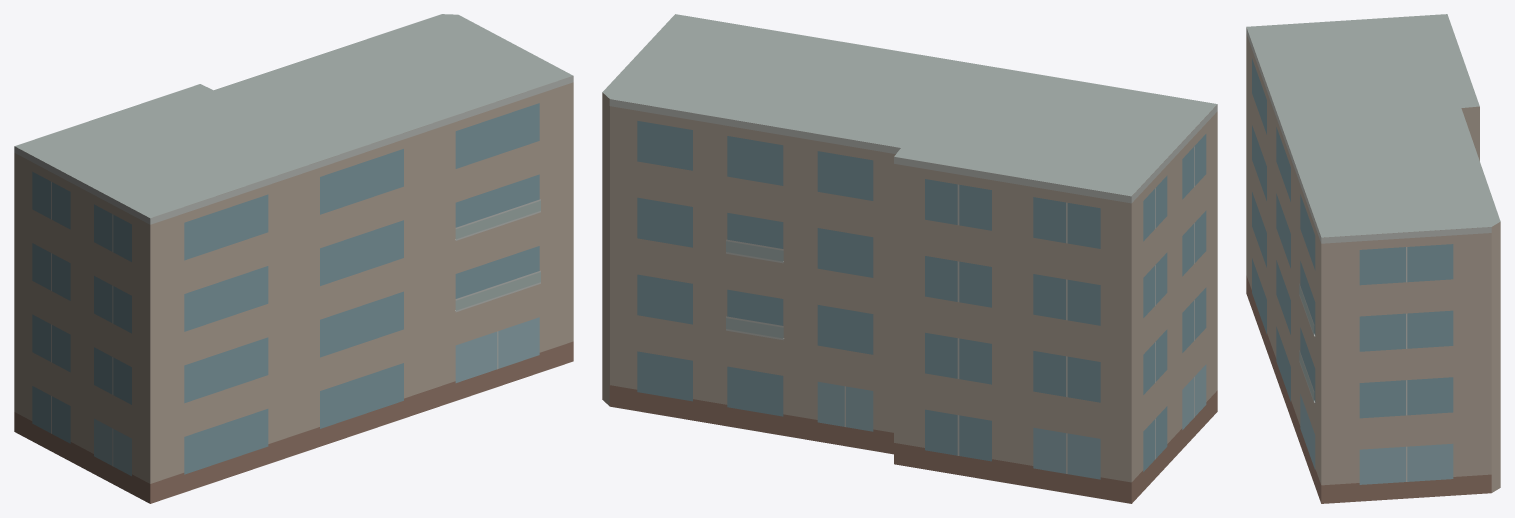
File: survey-upis-32705454.glb
The picture shows the model from 3 angles, left to right: view 1: azimuth 30°, elevation 25°; view 2: azimuth 150°, elevation 25°; view 3: azimuth 270°, elevation 25°; orthographic projection. The views are drawn at different scales.
Visible parts, largest first — view 1: survey-upis-32705454.tmp; view 2: survey-upis-32705454.tmp; view 3: survey-upis-32705454.tmp.
Boxes of the visible parts, x1,y1,x2,y2 form: survey-upis-32705454.tmp: (14,14,573,503); survey-upis-32705454.tmp: (602,14,1217,503); survey-upis-32705454.tmp: (1246,14,1500,503).
Bounding box in the file's own units: 19.19 × 10.65 × 9.23.
